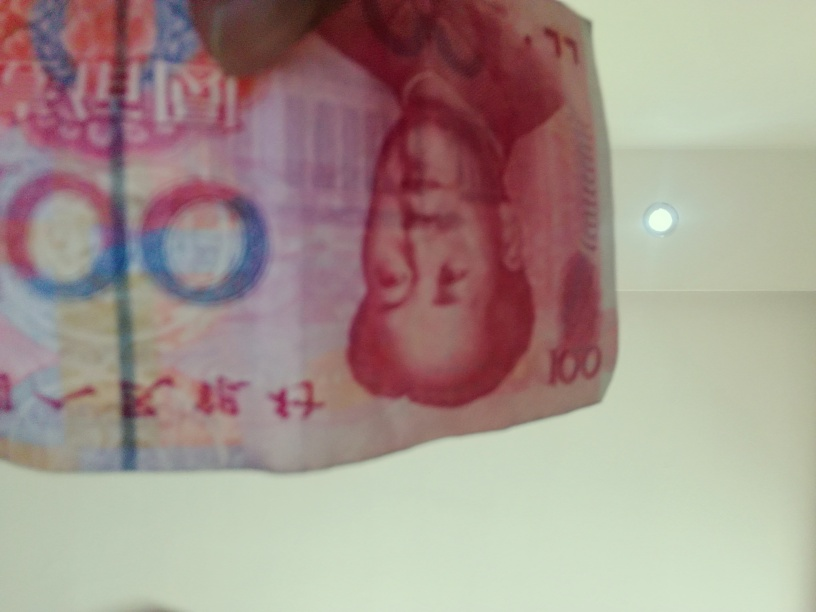rmb: (3, 1, 622, 489)
